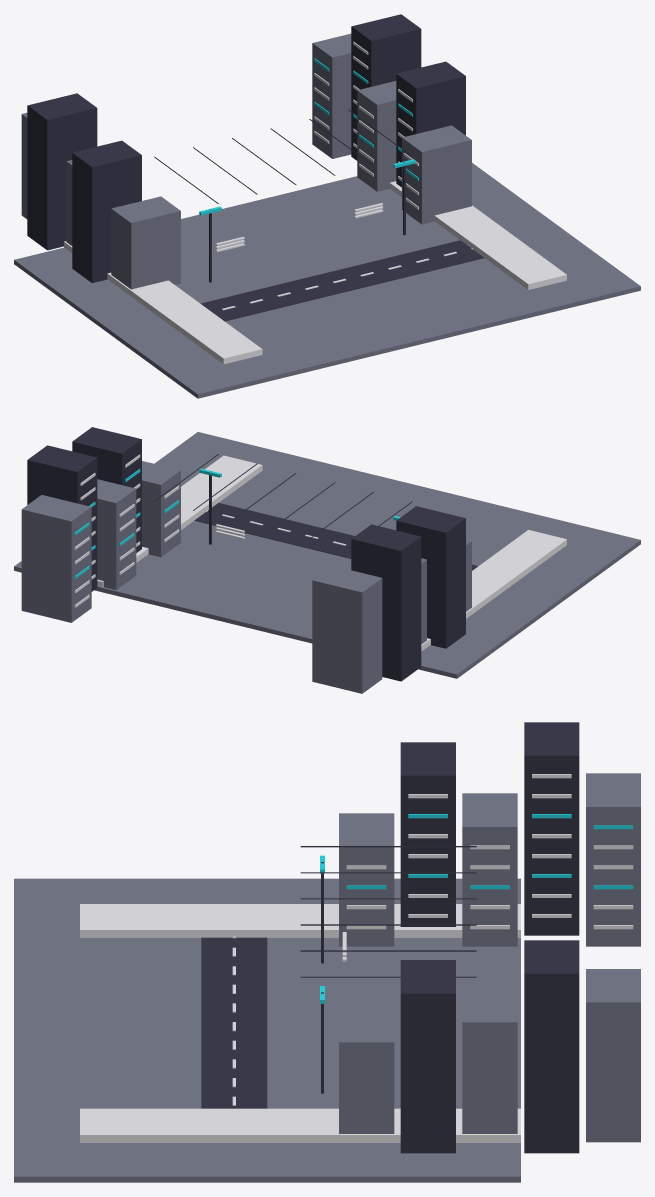
The model's file is district_0.glb.
The picture shows the model from 3 angles, top to bottom: view 1: azimuth 30°, elevation 25°; view 2: azimuth 150°, elevation 25°; view 3: azimuth 270°, elevation 25°; orthographic projection. The views are drawn at different scales.
Parts seen in each view (by area): view 1: ArenaFloor, Building.003, Building.001, FightLane, Building, Building.005, Sidewalk, Building.006, Building.008, Sidewalk.001, Building.009, Building.007 (+2 smaller); view 2: ArenaFloor, Building.004, Building.009, Building.003, Building.001, Building.008, Building.007, Sidewalk, FightLane, Building.005, Building.006, Sidewalk.001 (+2 smaller); view 3: ArenaFloor, Building.008, FightLane, Building.006, Building.003, Sidewalk.001, Sidewalk, Building.009, Building.001, Building.004, Building.007, Building.002 (+2 smaller).
Boxes of the visible parts, x1,y1,x2,y2 form: ArenaFloor: (14, 163, 640, 398); Building.003: (27, 93, 97, 250); Building.001: (72, 140, 141, 283); FightLane: (201, 240, 484, 321); Building: (111, 196, 180, 289); Building.005: (402, 125, 471, 224); Sidewalk: (64, 241, 262, 364); Building.006: (396, 61, 465, 187); Building.008: (351, 14, 421, 160); Sidewalk.001: (389, 181, 566, 289); Building.009: (312, 33, 351, 158); Building.007: (357, 81, 396, 191); ArenaFloor: (14, 432, 640, 678); Building.004: (312, 565, 382, 693); Building.009: (21, 495, 91, 622); Building.003: (351, 524, 421, 681); Building.001: (396, 506, 465, 648); Building.008: (27, 445, 97, 591); Building.007: (97, 479, 136, 589); Sidewalk: (421, 530, 566, 651); FightLane: (194, 503, 478, 570); Building.005: (142, 461, 180, 557); Building.006: (72, 427, 141, 552); Sidewalk.001: (97, 455, 262, 587); ArenaFloor: (14, 878, 520, 1182); Building.008: (524, 940, 579, 1153); FightLane: (201, 937, 267, 1108); Building.006: (400, 960, 455, 1153); Building.003: (524, 722, 579, 935); Sidewalk.001: (80, 1108, 520, 1142); Sidewalk: (80, 904, 520, 937); Building.009: (586, 969, 640, 1142); Building.001: (400, 742, 455, 926); Building.004: (586, 773, 640, 946); Building.007: (462, 989, 517, 1133); Building.002: (462, 793, 517, 946).
Size of the model in its own units: 32 by 9.3 by 28.45.
